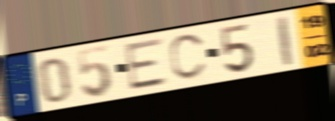0: (36, 55, 76, 105)
5: (76, 43, 114, 100), (217, 22, 255, 74)
C: (167, 31, 208, 83)
E: (123, 36, 171, 93)
I: (275, 14, 296, 69)
